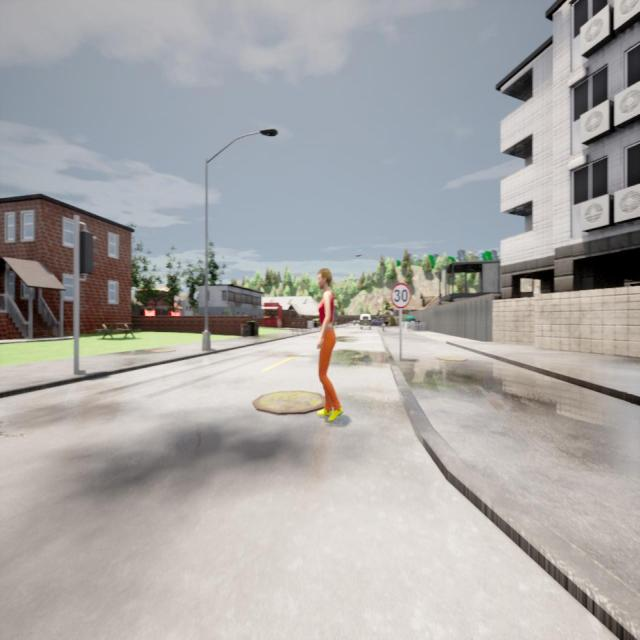Pedestrian: (315, 267, 345, 423)
Traffic_Signs: (391, 283, 411, 308)
Vehicle: (360, 314, 371, 329), (372, 317, 382, 326), (353, 317, 360, 326)
traffic_light: (80, 231, 97, 276)
